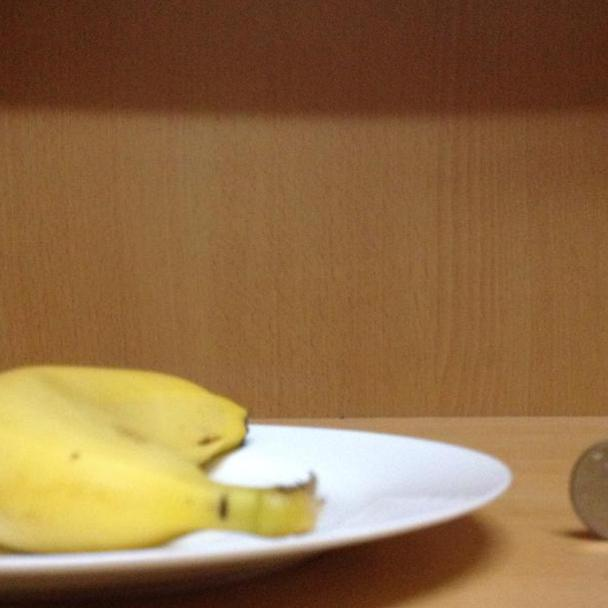banana: (1, 350, 324, 553)
